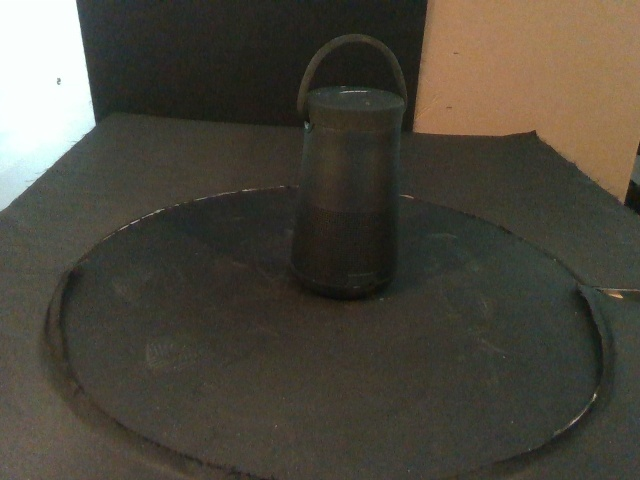speaker: (287, 85, 405, 301)
